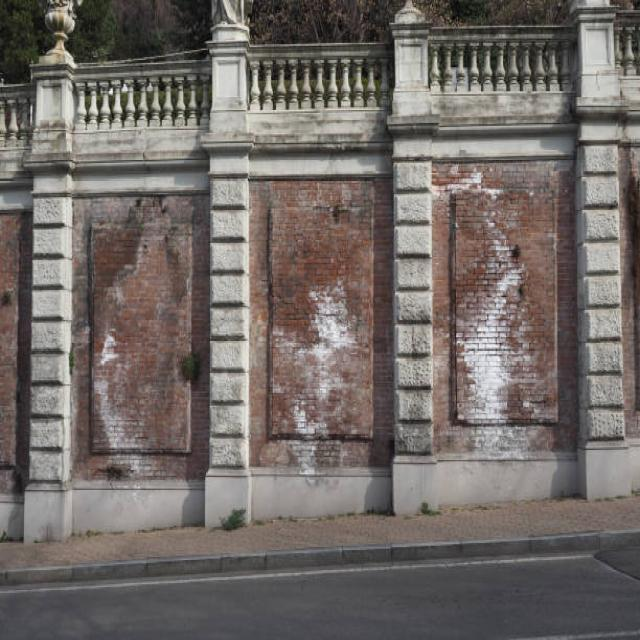stain_mould: (431, 163, 548, 450), (277, 277, 355, 477), (92, 363, 169, 480), (99, 333, 119, 365)
